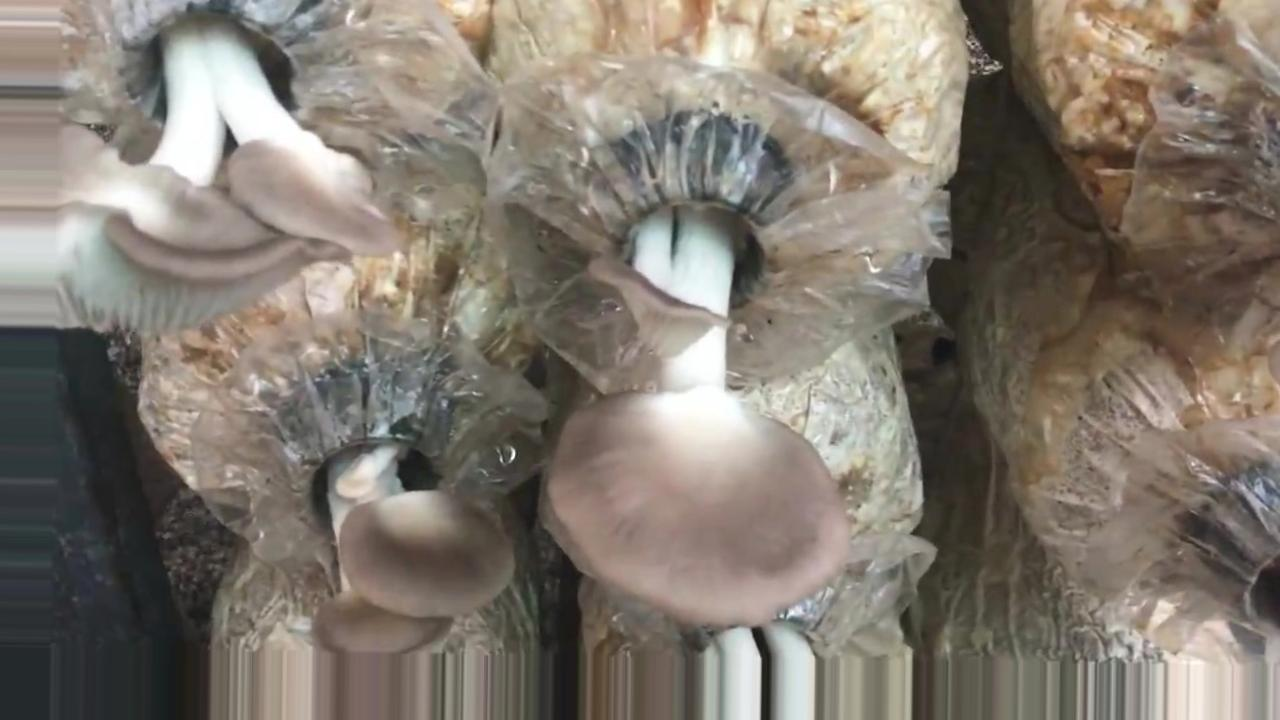nam: (539, 124, 852, 634), (1, 1, 400, 328), (313, 400, 518, 720)
